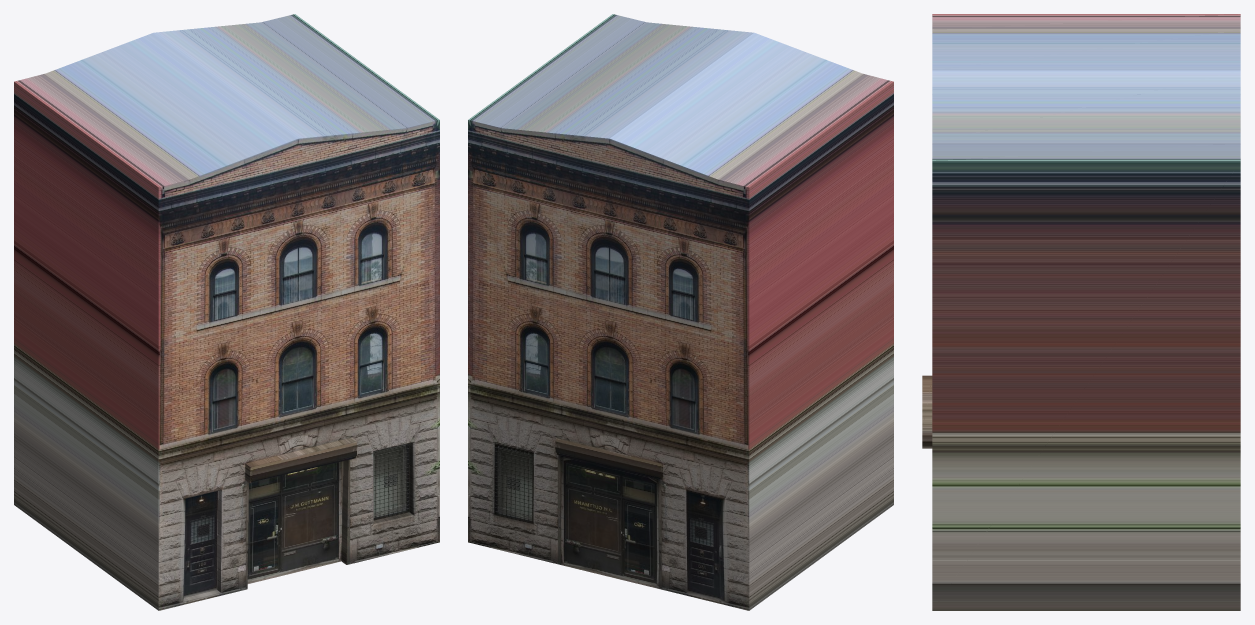
The model's file is TestBuilding.fbx.
The picture shows the model from 3 angles, left to right: view 1: azimuth 30°, elevation 25°; view 2: azimuth 150°, elevation 25°; view 3: azimuth 270°, elevation 25°; orthographic projection. The views are drawn at different scales.
Visible parts, largest first — view 1: Plane; view 2: Plane; view 3: Plane.
Boxes of the visible parts, x1=… form: Plane: x1=14, y1=14, x2=439, y2=610; Plane: x1=468, y1=14, x2=893, y2=610; Plane: x1=922, y1=14, x2=1240, y2=610.
Bounding box in the file's own units: 320 × 477 × 295.
Materials: 1 (1 with a texture image).
